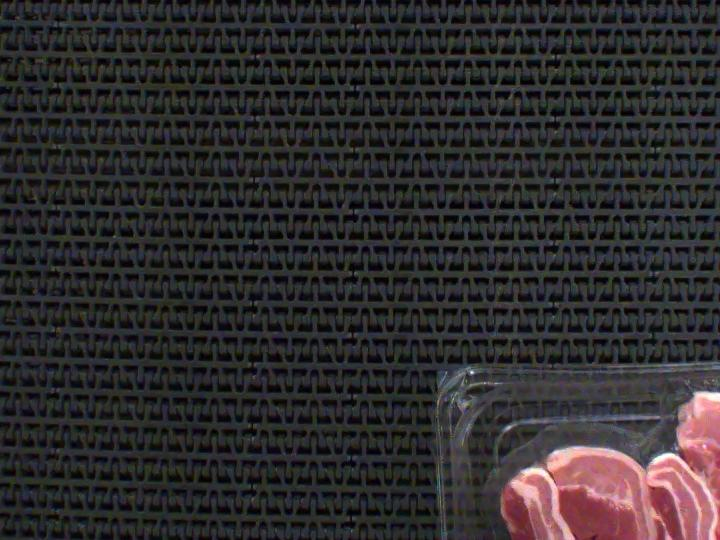unsealed: (445, 375, 720, 540)
